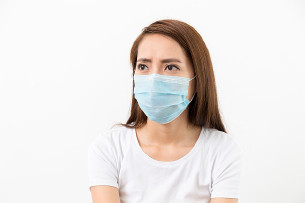face_mask: (134, 36, 189, 123)
